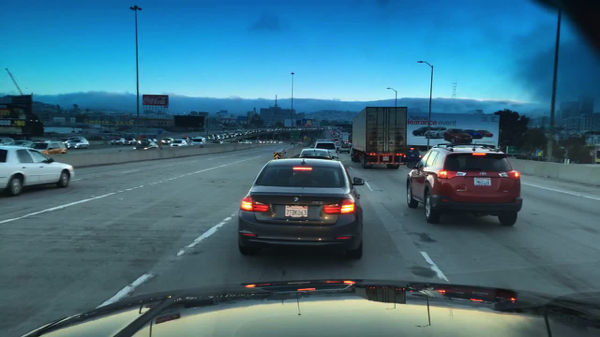car: (239, 157, 365, 260), (406, 142, 523, 225), (0, 146, 76, 197), (30, 140, 67, 155), (299, 147, 331, 162), (316, 140, 339, 160), (407, 146, 421, 162), (68, 138, 90, 148), (135, 142, 162, 150), (9, 140, 35, 148), (191, 135, 205, 147), (0, 137, 14, 147), (123, 137, 139, 145), (162, 136, 175, 145), (171, 140, 187, 147), (111, 137, 124, 145), (341, 145, 350, 154), (214, 140, 225, 145), (230, 140, 240, 145), (60, 138, 67, 145), (337, 142, 343, 150), (205, 134, 212, 140), (183, 135, 191, 140), (140, 137, 150, 141), (330, 134, 337, 139), (230, 134, 236, 139), (223, 134, 228, 140), (213, 134, 219, 139), (151, 138, 157, 143), (246, 140, 252, 145), (209, 134, 214, 139), (241, 140, 246, 145), (331, 140, 339, 143), (219, 134, 225, 138), (255, 140, 261, 144)
traffic sign: (292, 130, 299, 140), (318, 121, 328, 127), (305, 120, 312, 127)
truck: (352, 105, 408, 170), (341, 132, 350, 142)
